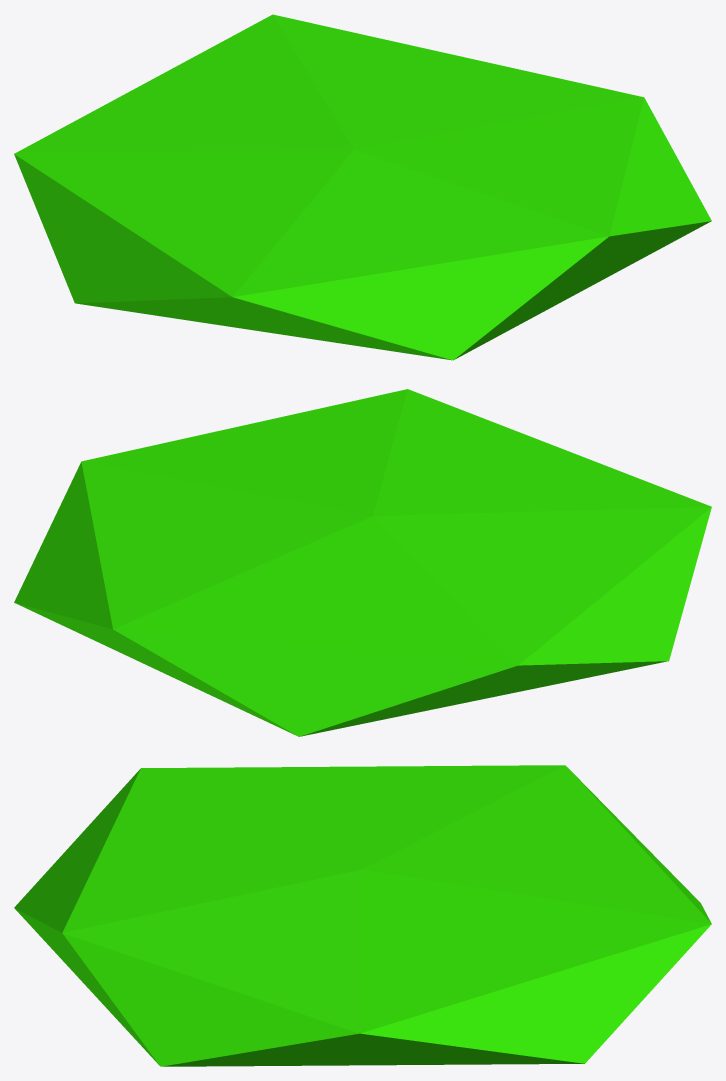
File: Island20xTop.glb
The picture shows the model from 3 angles, top to bottom: view 1: azimuth 30°, elevation 25°; view 2: azimuth 150°, elevation 25°; view 3: azimuth 270°, elevation 25°; orthographic projection. The views are drawn at different scales.
Visible parts, largest first — view 1: Island20xTop; view 2: Island20xTop; view 3: Island20xTop.
Boxes of the visible parts, <box> form: Island20xTop: <box>14,14,711,360</box>; Island20xTop: <box>14,389,711,736</box>; Island20xTop: <box>14,765,711,1066</box>.
Size of the model in its own units: 18.95 by 3.45 by 19.24.
